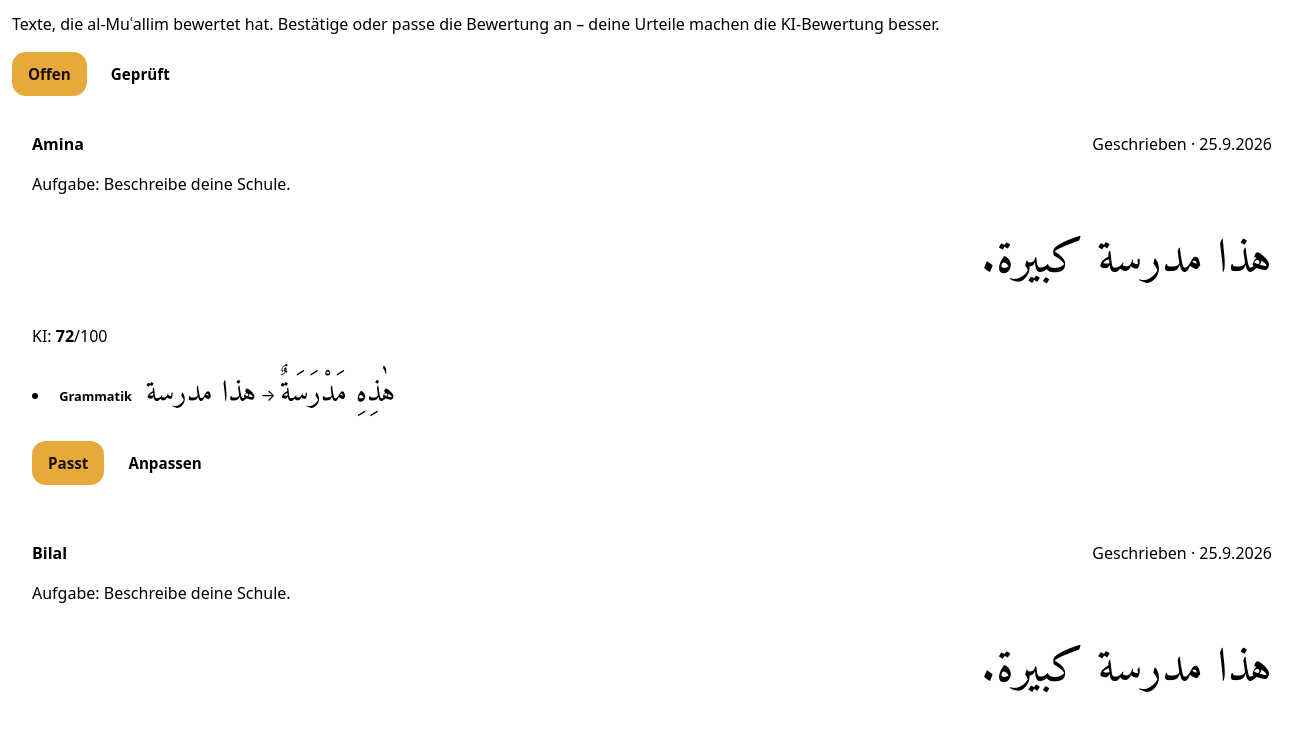
Scenario: Class grades review › confirms one grade and overrides another
Expected: the text "هذا مدرسة كبيرة." below "Amina" is shown, [981,218,1272,302]
Click the button "Passt" at (68, 463), box [32,441,104,485]
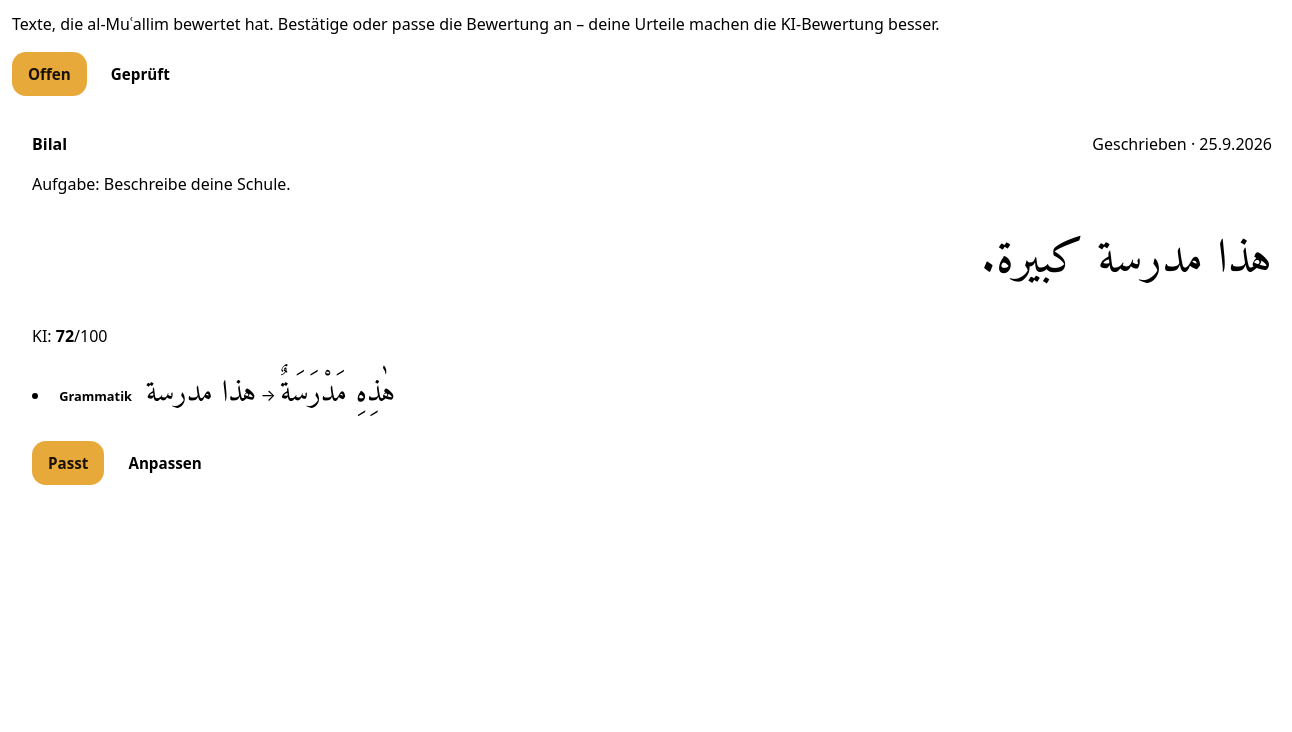
Click the button "Anpassen" at (165, 463), box [112,441,218,485]
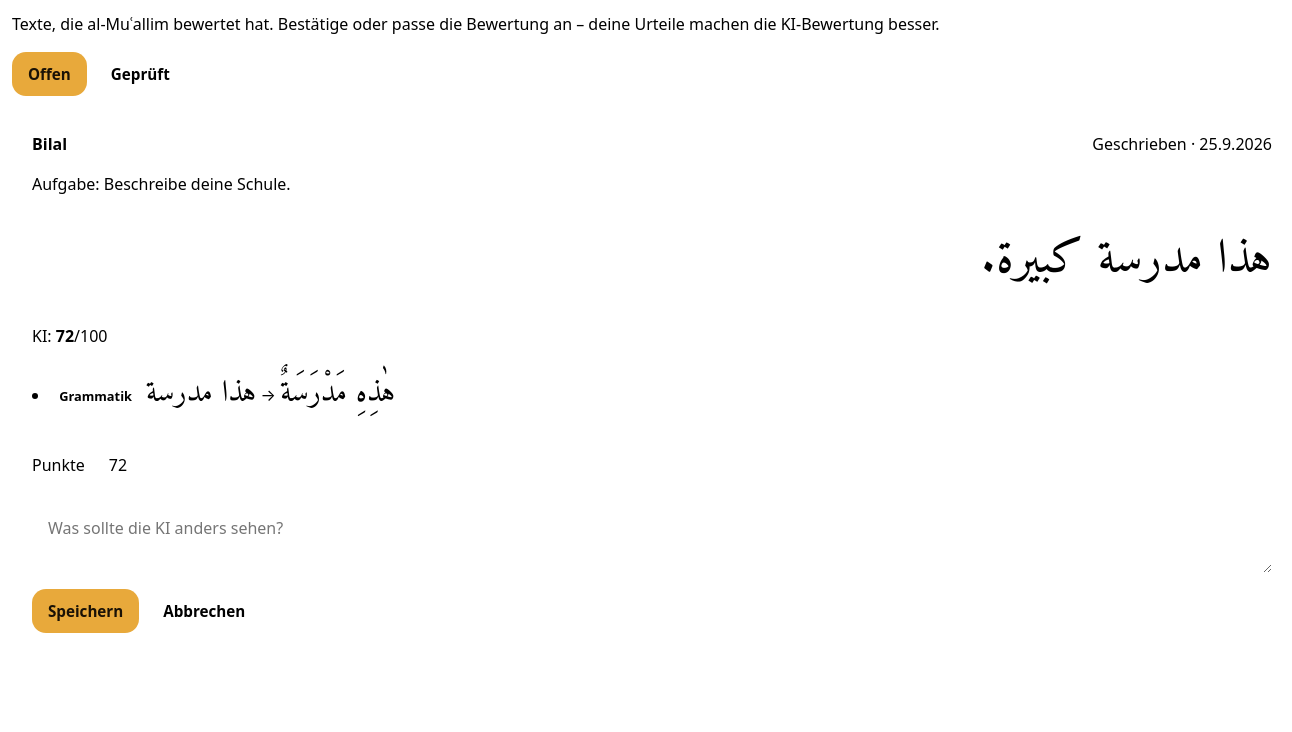
Replace the text in the field named "Deine Punkte (0–100)" with "150" at (133, 465), box [93,441,173,489]
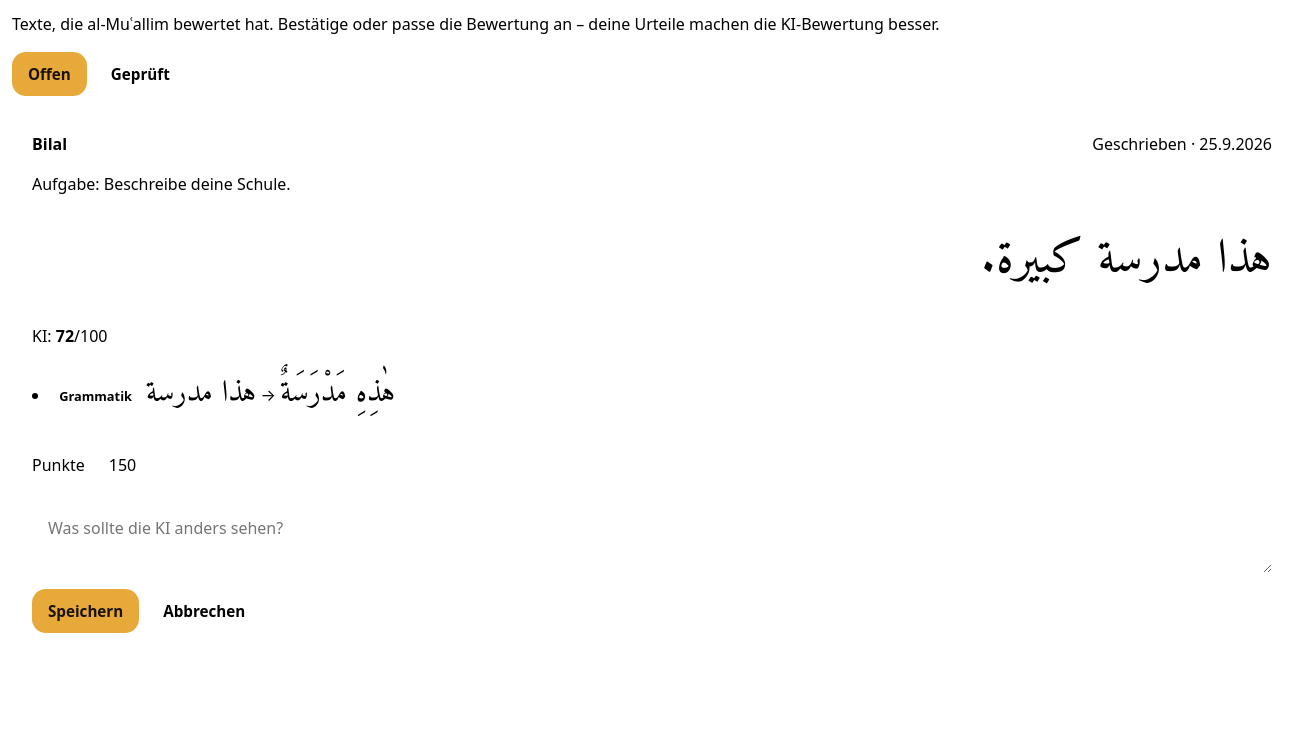
Type "Zwei Fehler." into the text box named "Dein Kommentar" at (652, 539), box [32,505,1272,573]
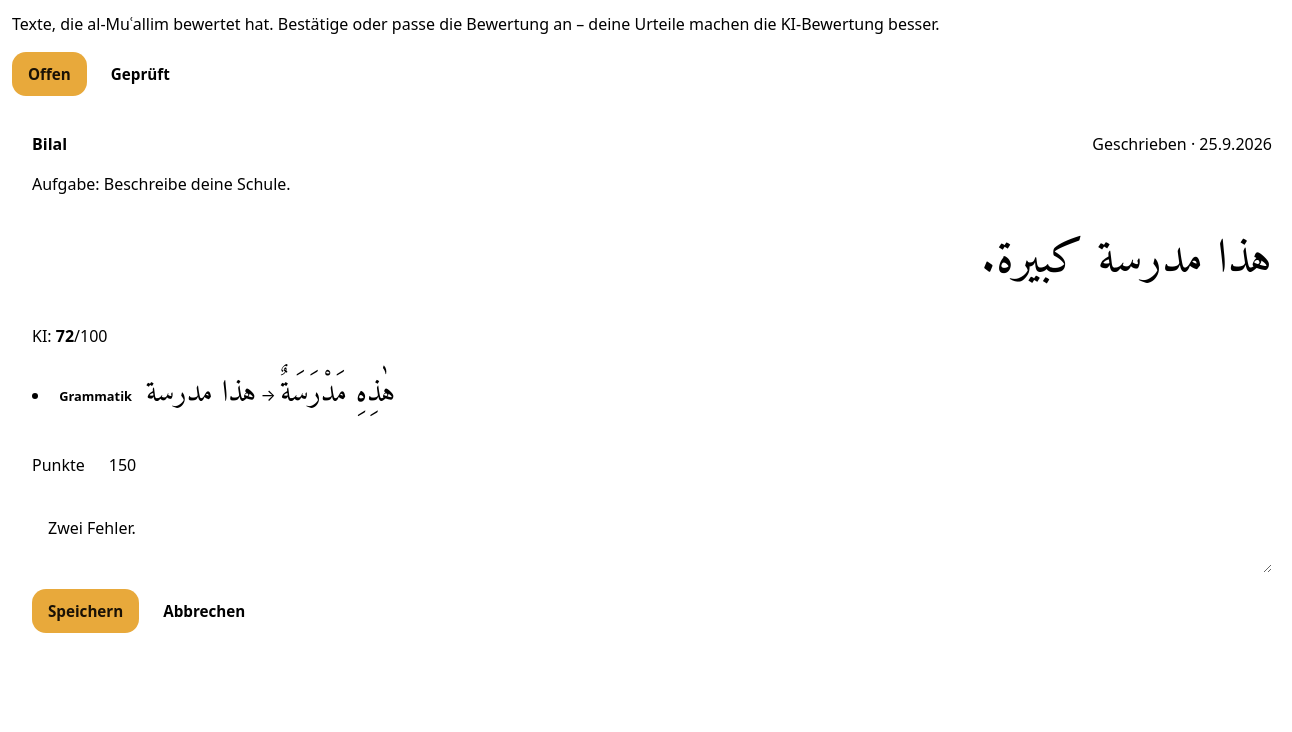
Click the button "Speichern" at (86, 611), box [32,589,139,633]
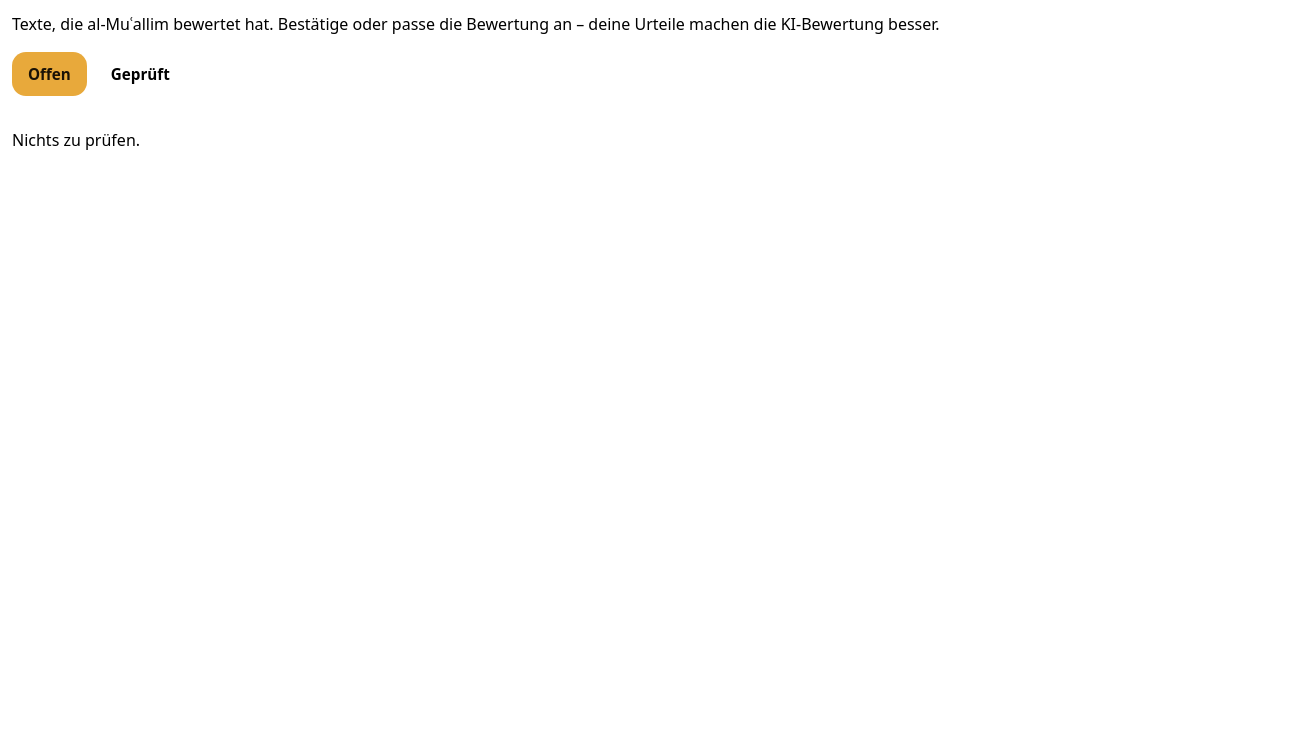
Now the text "Nichts zu prüfen." is shown, box [12,129,140,151]
